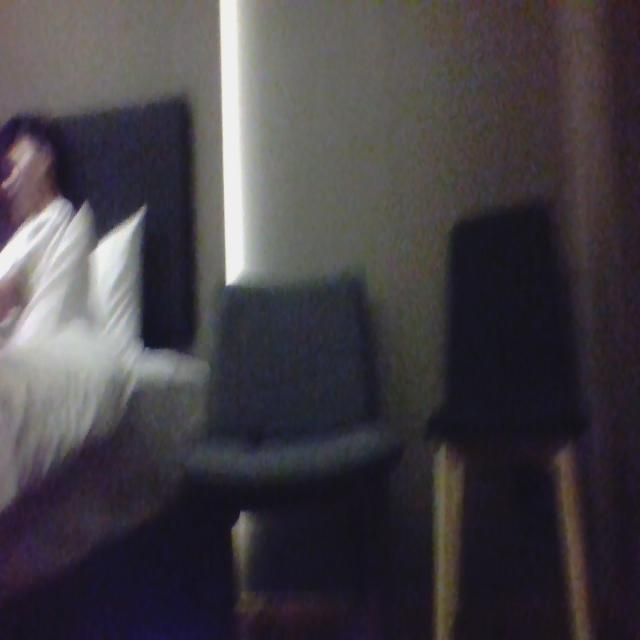empty: (209, 286, 390, 448), (440, 219, 566, 436)
